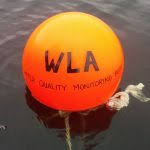buoy: (23, 11, 124, 112)
